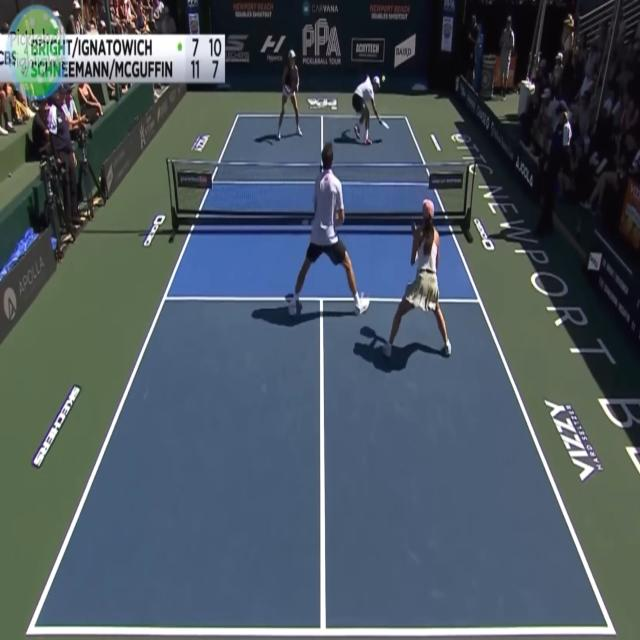ball: (379, 67, 389, 86)
